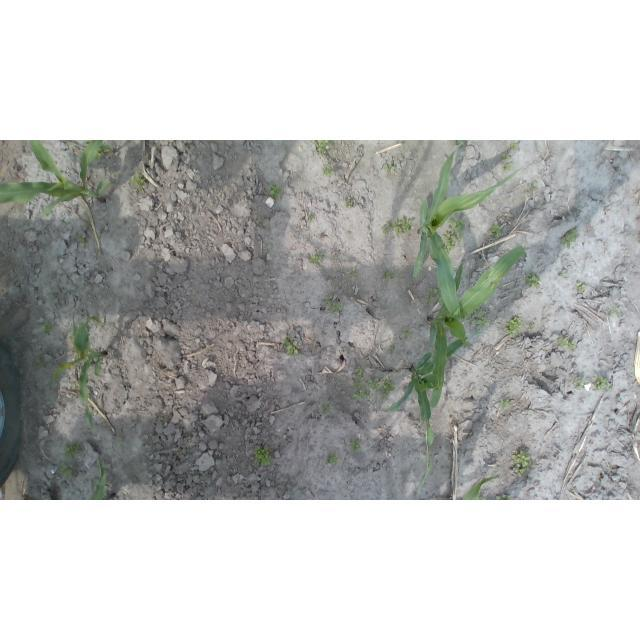Maize: (412, 141, 524, 322), (426, 245, 527, 408), (384, 336, 469, 496), (0, 140, 112, 216), (51, 315, 109, 432), (461, 474, 500, 500), (88, 459, 108, 500)
Weeds: (444, 218, 465, 254), (352, 365, 371, 399), (511, 451, 533, 478), (382, 218, 414, 235), (86, 142, 115, 159), (469, 310, 492, 330), (560, 229, 580, 250), (505, 315, 523, 337), (592, 376, 614, 393), (253, 446, 271, 466), (130, 171, 146, 192), (381, 377, 396, 399), (284, 333, 299, 355), (325, 296, 344, 313), (65, 440, 81, 459), (557, 336, 576, 352), (428, 287, 445, 303), (525, 273, 541, 290), (58, 464, 74, 480), (315, 140, 330, 157), (490, 221, 504, 238), (572, 376, 587, 391), (607, 304, 622, 319), (347, 437, 361, 453), (309, 253, 324, 267), (269, 184, 282, 200), (35, 356, 48, 370), (367, 378, 380, 391), (325, 453, 339, 465), (382, 269, 396, 280), (43, 322, 54, 335), (383, 162, 395, 173), (575, 282, 585, 295), (499, 399, 510, 410), (322, 165, 334, 175), (322, 404, 332, 415), (503, 162, 513, 173), (348, 267, 358, 277), (401, 329, 411, 338), (495, 494, 510, 500), (531, 181, 539, 192), (257, 217, 264, 229), (77, 235, 85, 245), (345, 198, 353, 207), (510, 142, 518, 151), (559, 273, 569, 280), (502, 153, 510, 161), (307, 215, 315, 222), (118, 437, 126, 444), (388, 348, 396, 355), (457, 141, 465, 148), (157, 417, 163, 423), (529, 323, 535, 329)
